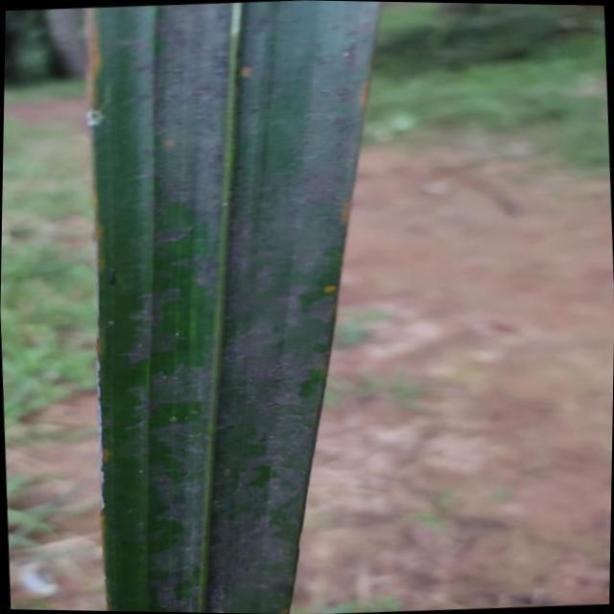Kalium: (85, 5, 382, 614)
